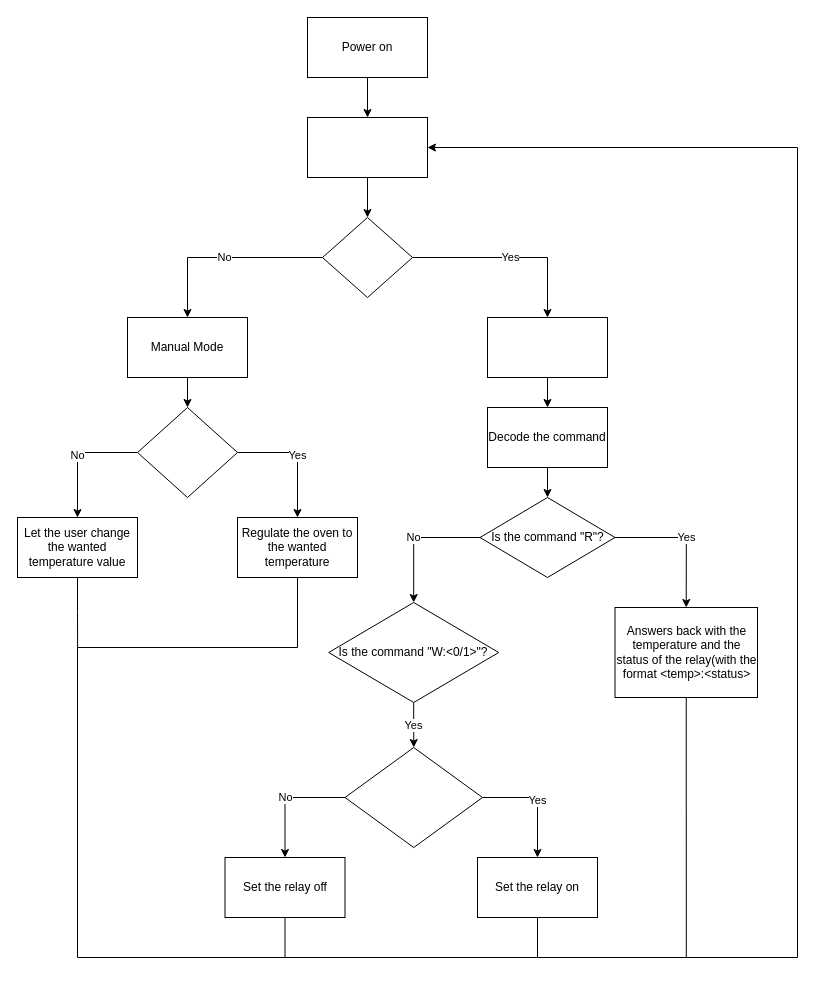
Image size: 823x983. Some labels were removed from this diagram. Each missing label, with the centre of its shape:
"Incoming commands?" belongs at pixel 367 257.
"Is edit mode enabled?" belongs at pixel 187 452.
"Is the second part of the command 1" belongs at pixel 413 797.
"Remote Mode" belongs at pixel 547 347.
"Temperature reading" belongs at pixel 367 147.
